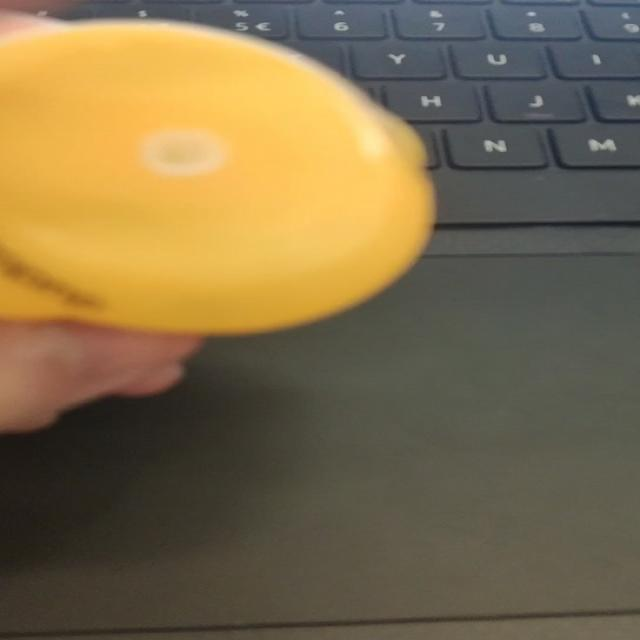rubber-duck: (0, 21, 433, 332)
